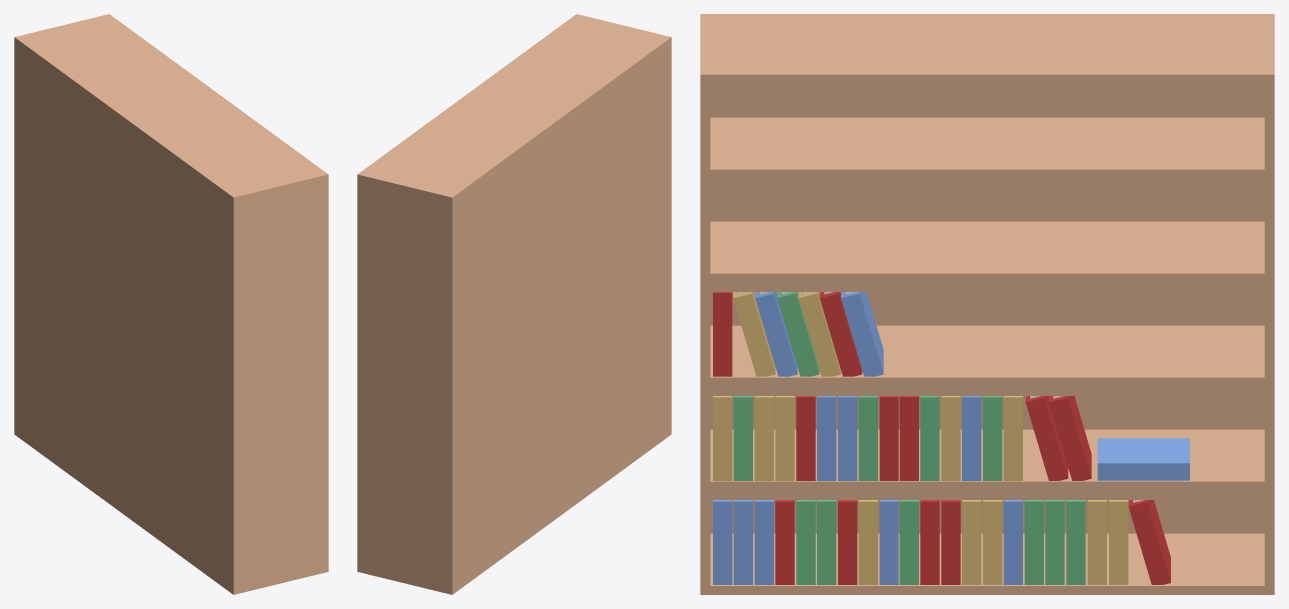
Rendered from Bookstore.FBX.
3 renders of one model, left to right at view 1: azimuth 30°, elevation 25°; view 2: azimuth 150°, elevation 25°; view 3: azimuth 270°, elevation 25°, orthographic. The views are drawn at different scales.
Parts seen in each view (by area): view 1: Bookstore; view 2: Bookstore; view 3: Bookstore.
Boxes of the visible parts, x1,y1,x2,y2 form: Bookstore: (14,14,328,594); Bookstore: (357,14,671,594); Bookstore: (700,14,1274,594).
Bounding box in the file's own units: 5 × 20 × 20.
